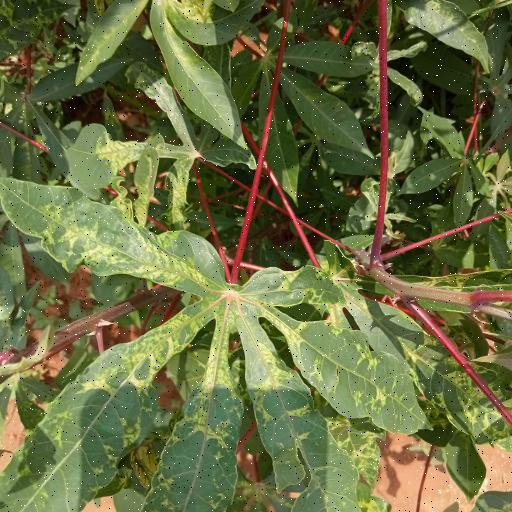Cassava_Healthy: (0, 174, 421, 512)
